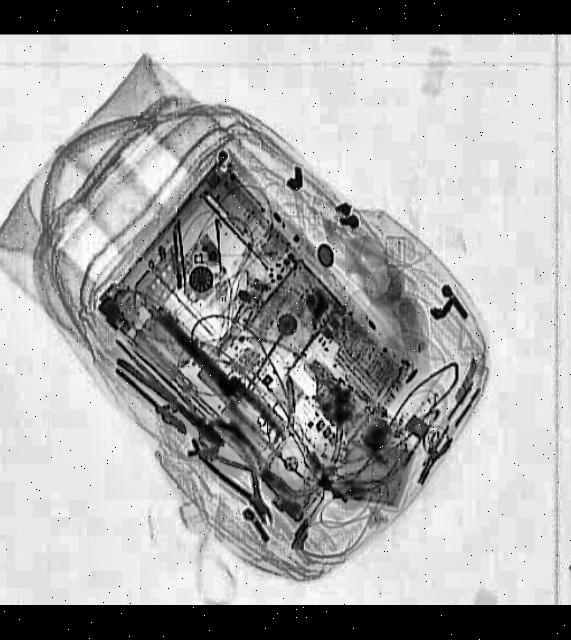Pliers: (188, 414, 293, 537)
